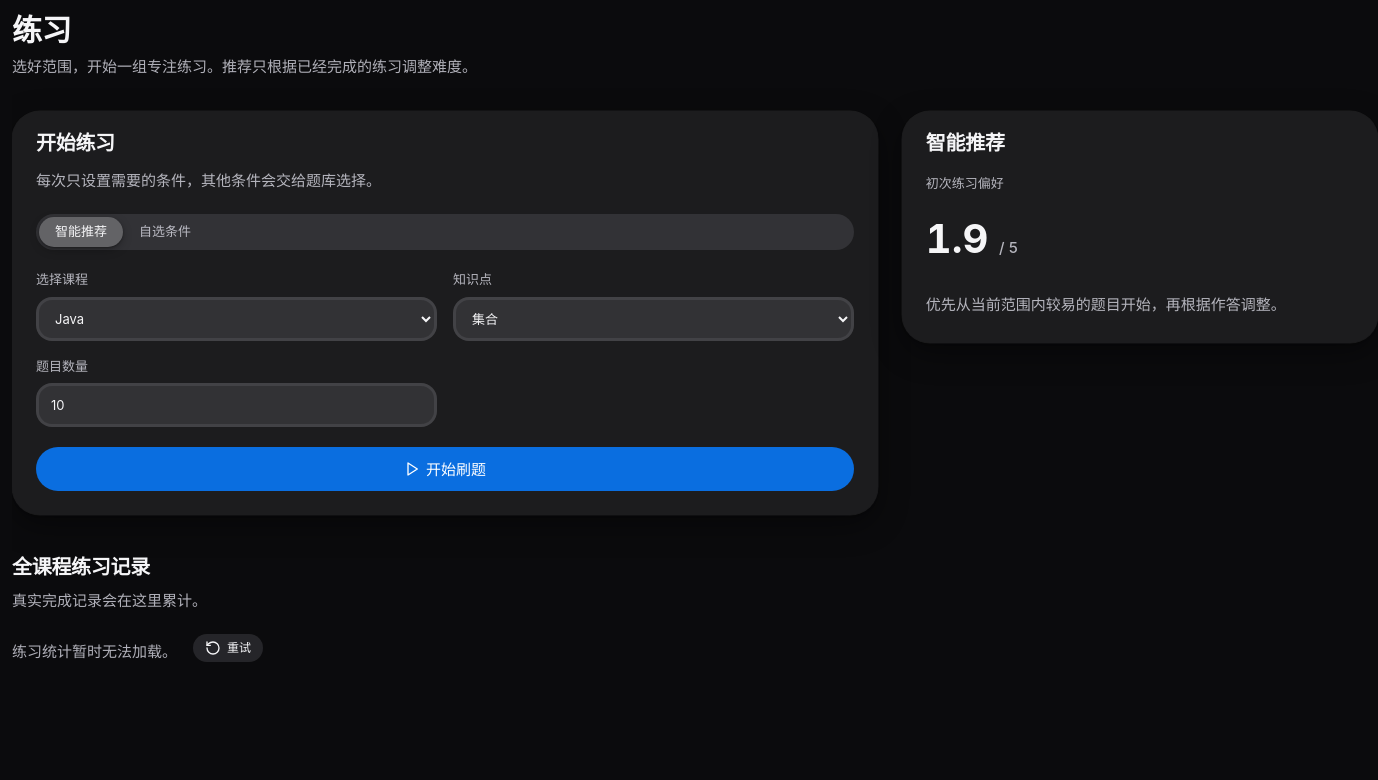
Test: PracticeView › shows failed statistics as a retryable state instead of zero values
The image size is (1378, 780).
Expected: the element with test id "state-panel" is shown, [12,634,263,662]
Click the button "重试". click: x=228, y=648
box: [193,634,263,662]
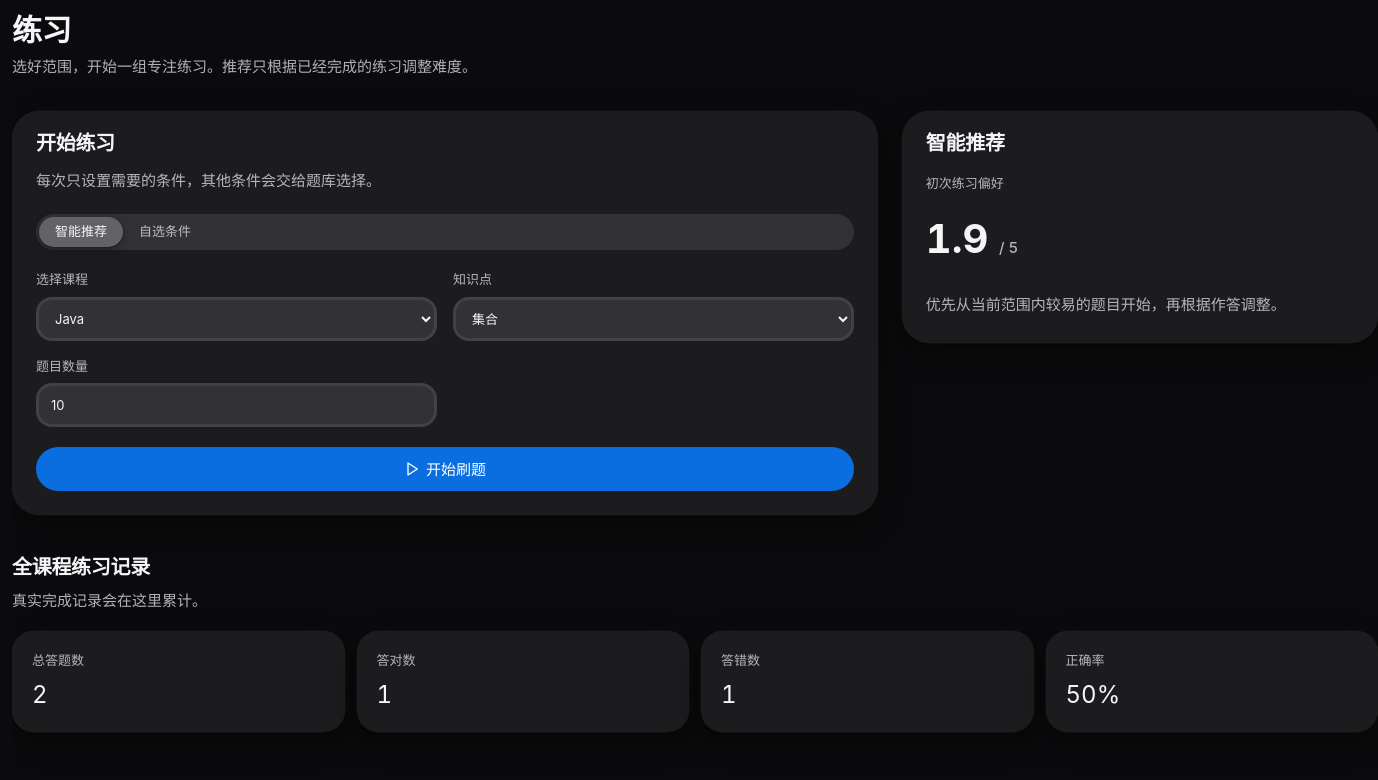
Result: the number of elements with test id "stat" is 4 at [12,631,344,732]; [356,631,689,732]; [701,631,1034,732]; [1046,631,1377,732]
